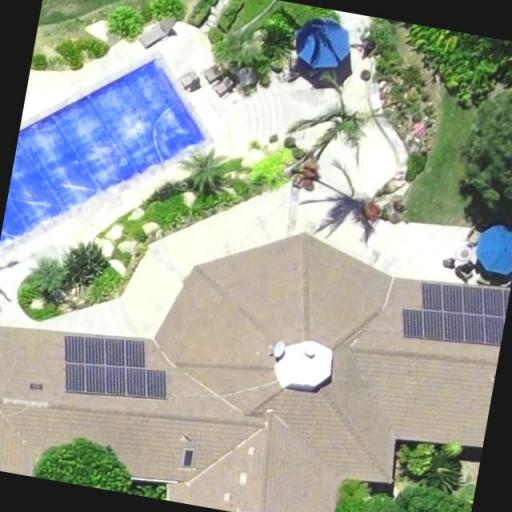solar-panel: (402, 283, 510, 346), (63, 335, 166, 399)
